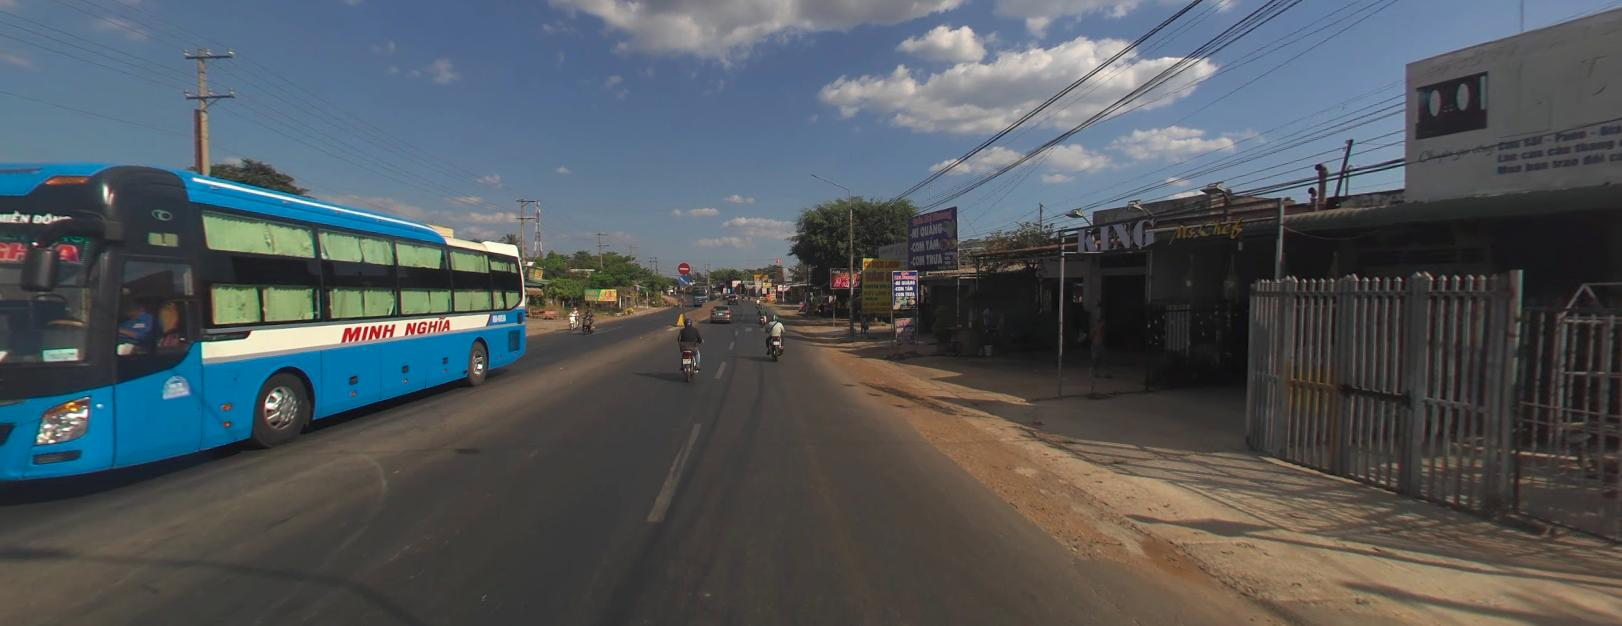Cam nguoc chieu: (677, 261, 689, 273)
Hieu lenh: (677, 274, 689, 285)
